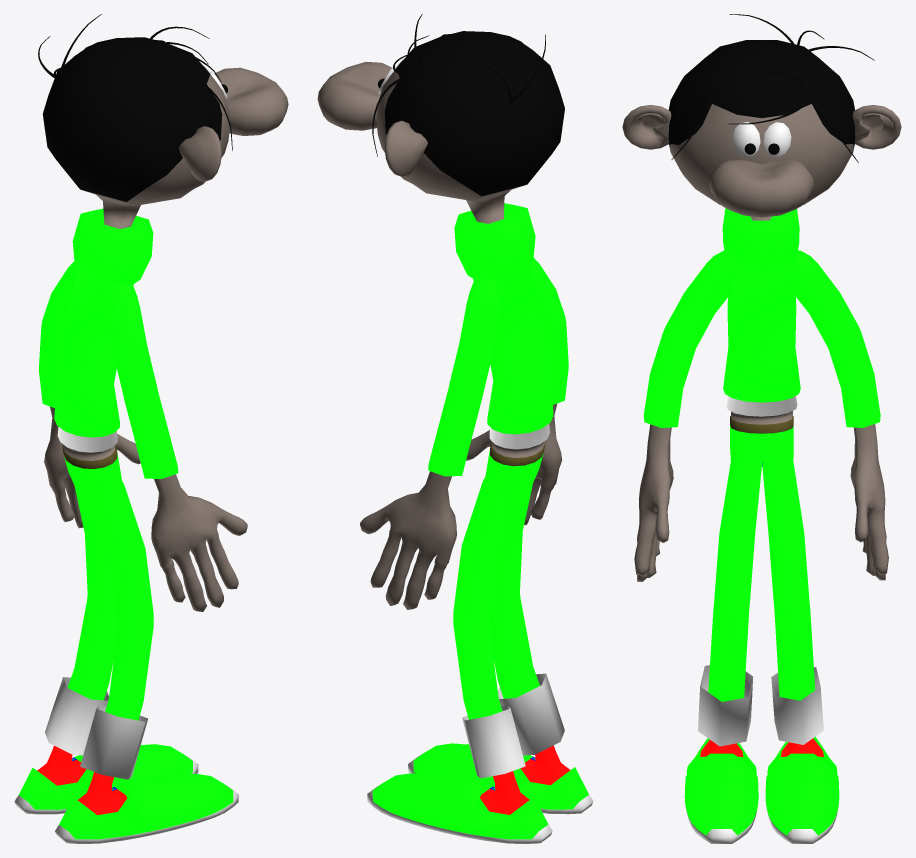
Rendered from spectator_green_tall.dae.
The picture shows the model from 3 angles, left to right: view 1: azimuth 30°, elevation 25°; view 2: azimuth 150°, elevation 25°; view 3: azimuth 270°, elevation 25°; orthographic projection.
Parts seen in each view (by area): view 1: Spectator; view 2: Spectator; view 3: Spectator.
Boxes of the visible parts, x1=… form: Spectator: x1=14, y1=14, x2=288, y2=843; Spectator: x1=317, y1=14, x2=593, y2=843; Spectator: x1=622, y1=14, x2=901, y2=843.
Bounding box in the file's own units: 0.6596 × 0.662 × 2.
